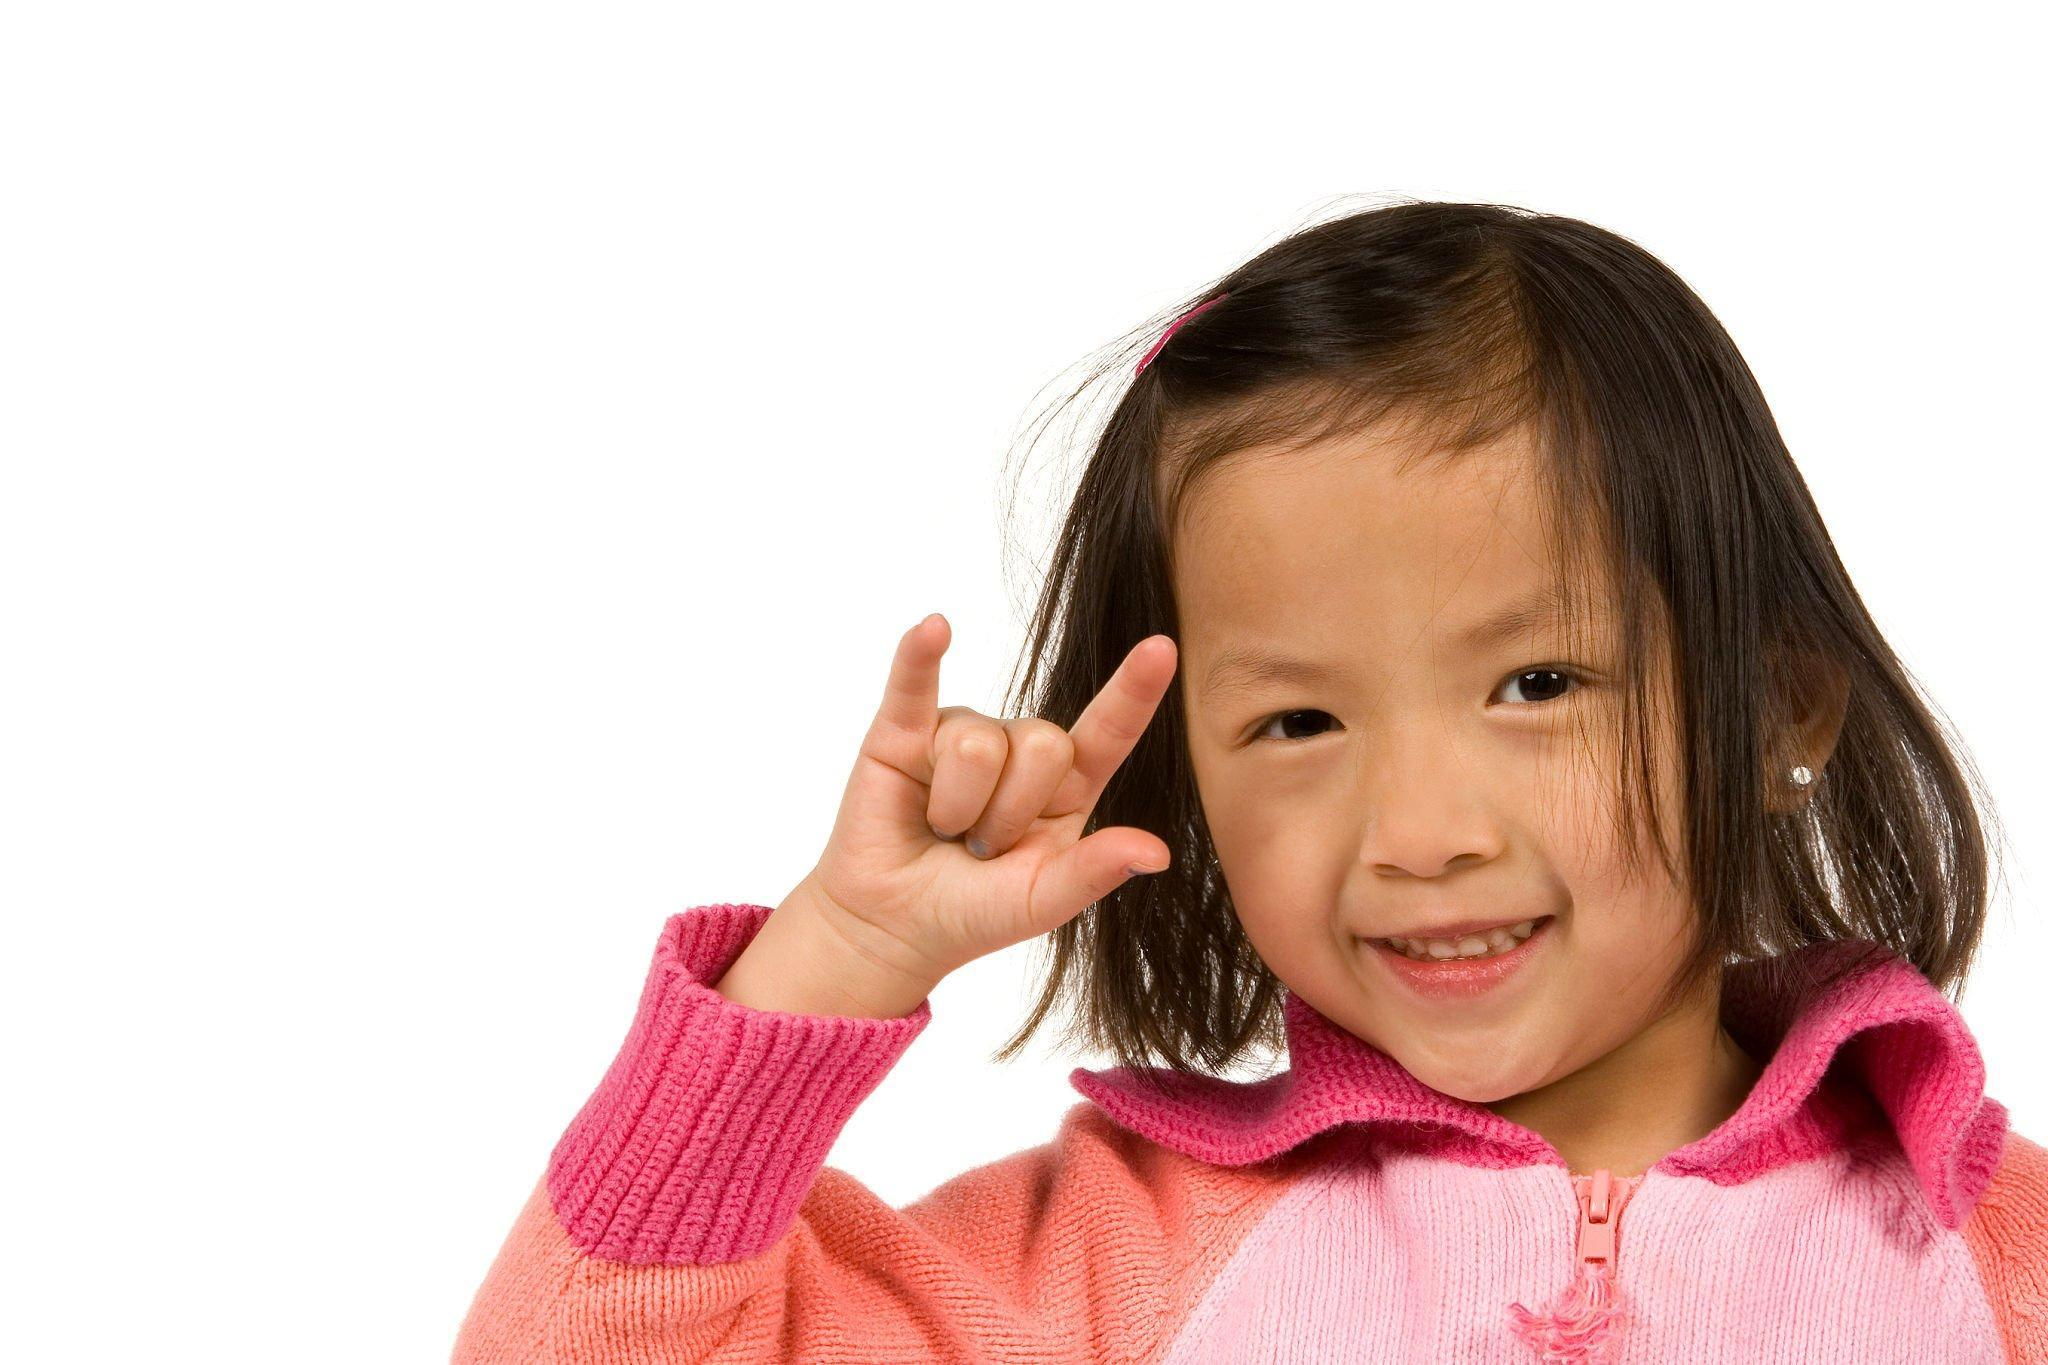Healthy: (1177, 361, 1789, 1123)
